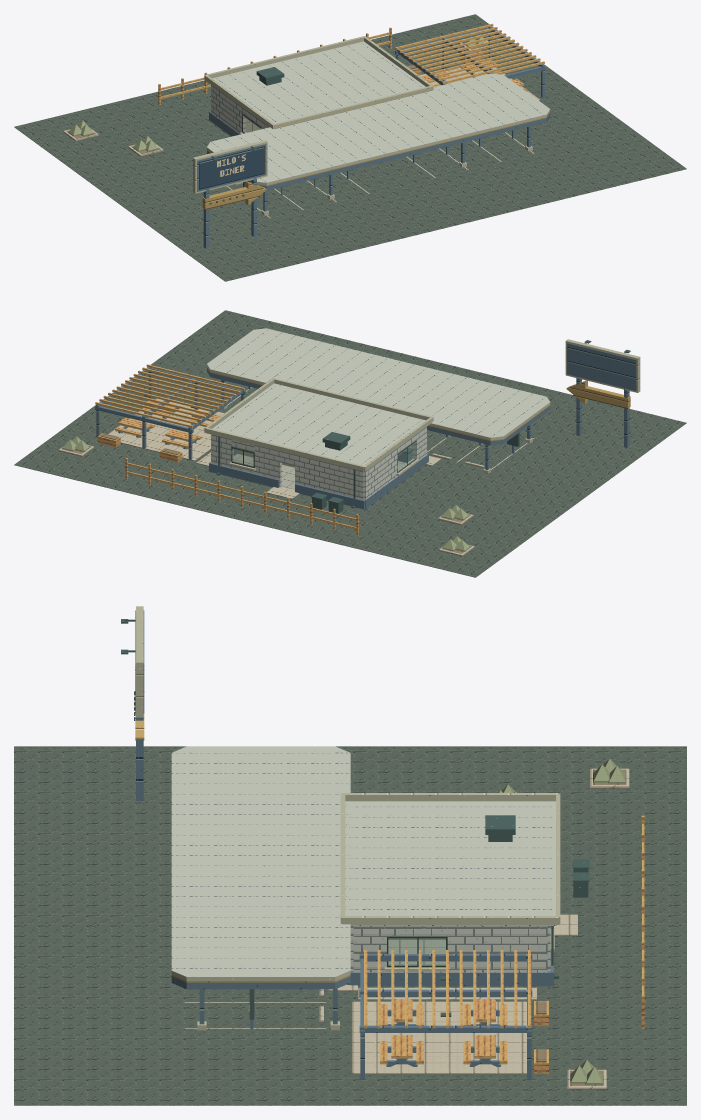
The model's file is carhop-restored.glb.
The picture shows the model from 3 angles, top to bottom: view 1: azimuth 30°, elevation 25°; view 2: azimuth 150°, elevation 25°; view 3: azimuth 270°, elevation 25°; orthographic projection. The views are drawn at different scales.
Parts seen in each view (by area): view 1: lot__ground_asphalt, carhop_canopy__roof_membrane, stand__roof_membrane, patio_pergola__detail_wood, stand__wall_enamel, sign_name, carhop_canopy__detail_teal, patio_pergola__detail_teal, stand__wall_block, carhop_canopy__wall_enamel, roadside_pylon__detail_teal, roadside_pylon__detail_coral (+3 smaller); view 2: lot__ground_asphalt, carhop_canopy__roof_membrane, stand__roof_membrane, stand__wall_block, patio_pergola__detail_wood, stand__wall_enamel, roadside_pylon__detail_teal, walks__ground_paving, stand__detail_teal, rear_fence__detail_wood, patio_pergola__detail_teal, carhop_canopy__detail_teal (+6 smaller); view 3: lot__ground_asphalt, carhop_canopy__roof_membrane, stand__roof_membrane, walks__ground_paving, stand__wall_block, stand__wall_enamel, patio_pergola__detail_teal, patio_pergola__detail_wood, stand__detail_teal, carhop_canopy__detail_teal, stand__glass_windows, stand__ground_paving (+9 smaller).
Boxes of the visible parts, <box> form: lot__ground_asphalt: <box>14,14,686,281</box>; carhop_canopy__roof_membrane: <box>207,73,549,182</box>; stand__roof_membrane: <box>212,41,425,123</box>; patio_pergola__detail_wood: <box>395,23,544,84</box>; stand__wall_enamel: <box>204,36,433,134</box>; sign_name: <box>199,146,264,189</box>; carhop_canopy__detail_teal: <box>207,113,550,211</box>; patio_pergola__detail_teal: <box>395,26,545,97</box>; stand__wall_block: <box>211,84,268,133</box>; carhop_canopy__wall_enamel: <box>207,109,550,215</box>; roadside_pylon__detail_teal: <box>197,144,266,248</box>; roadside_pylon__detail_coral: <box>202,181,266,209</box>; lot__ground_asphalt: <box>14,310,686,577</box>; carhop_canopy__roof_membrane: <box>207,328,549,437</box>; stand__roof_membrane: <box>207,384,425,471</box>; stand__wall_block: <box>211,427,426,499</box>; patio_pergola__detail_wood: <box>95,364,244,427</box>; stand__wall_enamel: <box>204,378,433,475</box>; roadside_pylon__detail_teal: <box>567,343,636,447</box>; walks__ground_paving: <box>108,398,441,499</box>; stand__detail_teal: <box>209,449,428,509</box>; rear_fence__detail_wood: <box>125,458,358,535</box>; patio_pergola__detail_teal: <box>95,367,245,460</box>; carhop_canopy__detail_teal: <box>207,368,550,469</box>; lot__ground_asphalt: <box>14,746,686,1105</box>; carhop_canopy__roof_membrane: <box>171,746,350,976</box>; stand__roof_membrane: <box>345,801,556,925</box>; walks__ground_paving: <box>327,914,577,1074</box>; stand__wall_block: <box>350,926,550,972</box>; stand__wall_enamel: <box>340,793,560,971</box>; patio_pergola__detail_teal: <box>359,954,532,1079</box>; patio_pergola__detail_wood: <box>364,950,530,1028</box>; stand__detail_teal: <box>347,926,553,986</box>; carhop_canopy__detail_teal: <box>171,976,350,1024</box>; stand__glass_windows: <box>387,937,447,967</box>; stand__ground_paving: <box>388,940,445,964</box>.
Size of what is drawn, in the model's own units: 43.46 by 8.3 by 34.45.
Materials: 12 (12 with a texture image).
